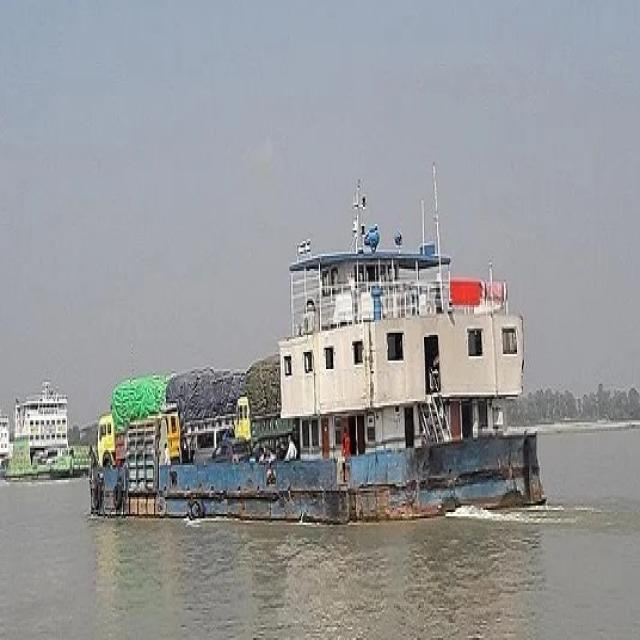cargoship: (92, 203, 560, 542), (0, 396, 78, 476)
